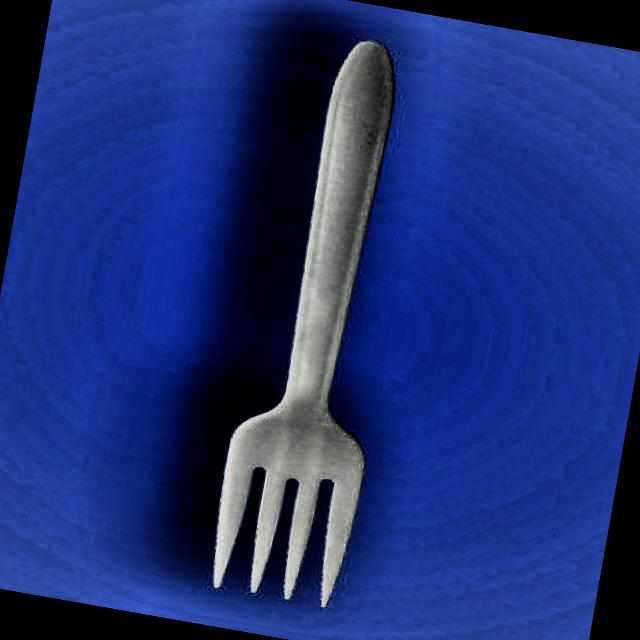plastic utensil: (196, 23, 446, 618)
